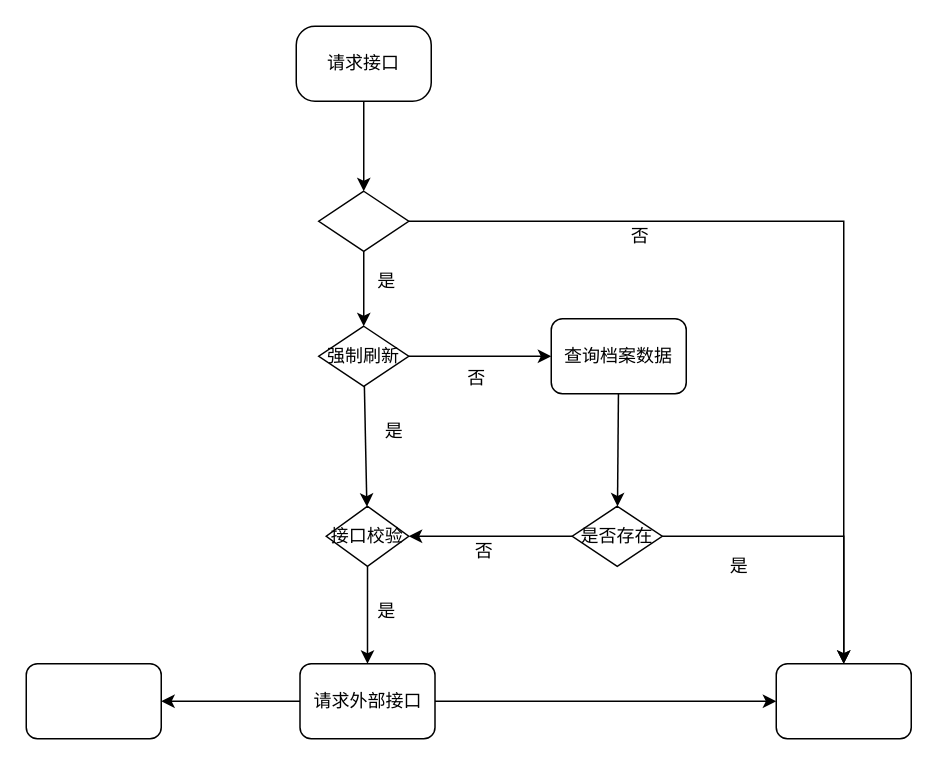
The diagram is 938 pixels wide and 765 high, and some of its shapes have lost their labels. Here are the shapes that lost their labels. From the top down, the centre of each, then its label:
At [363,220]: "账号校验".
At [93,700]: "数据持久化".
At [843,700]: "输出返回".
